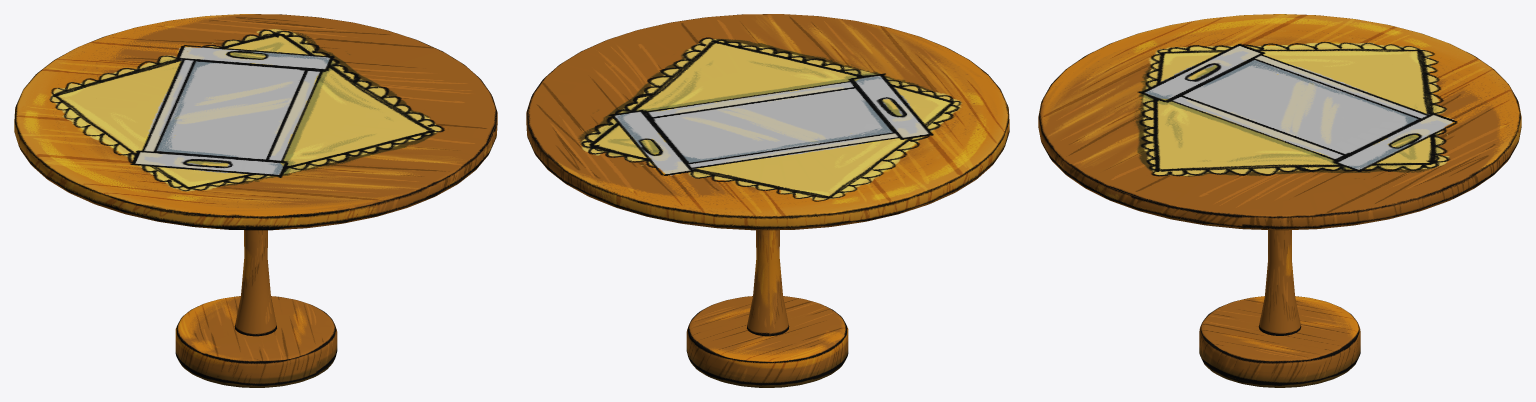
File: Greenhouse_Table_Past_ClothAndTray.fbx
The picture shows the model from 3 angles, left to right: view 1: azimuth 30°, elevation 25°; view 2: azimuth 150°, elevation 25°; view 3: azimuth 270°, elevation 25°; orthographic projection.
Visible parts, largest first — view 1: pCylinder6, pCylinder7, pCylinder8; view 2: pCylinder6, pCylinder7, pCylinder8; view 3: pCylinder6, pCylinder7, pCylinder8.
Part boxes in pixels (bbox=[...]): pCylinder6: bbox=[14, 14, 497, 230]; pCylinder7: bbox=[175, 296, 337, 387]; pCylinder8: bbox=[234, 230, 276, 336]; pCylinder6: bbox=[526, 14, 1009, 230]; pCylinder7: bbox=[686, 296, 848, 387]; pCylinder8: bbox=[747, 230, 789, 336]; pCylinder6: bbox=[1038, 14, 1521, 230]; pCylinder7: bbox=[1199, 296, 1360, 387]; pCylinder8: bbox=[1258, 230, 1301, 335].
Bounding box in the file's own units: 7.36 × 4.06 × 7.36.
3 materials, 3 textured.
